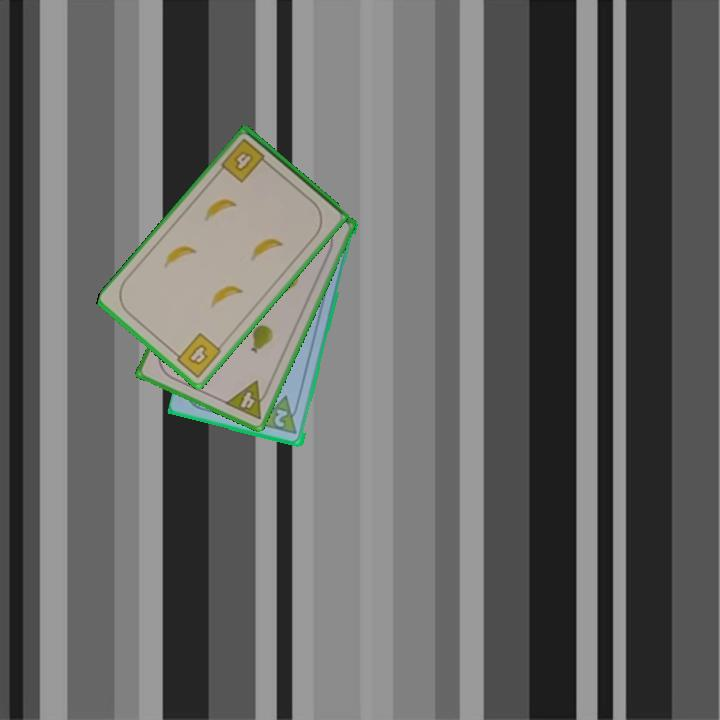2p: (271, 406, 291, 430)
4b: (169, 329, 224, 381), (217, 135, 273, 186)
4p: (221, 377, 273, 423)
